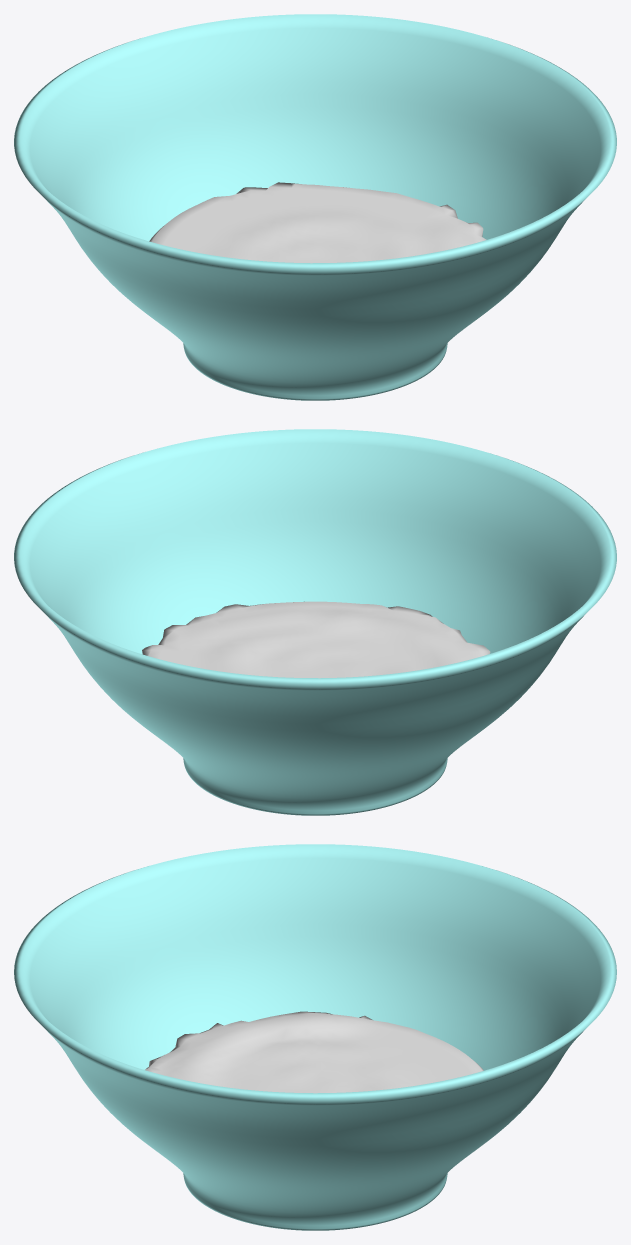
The model's file is waterBowl.fbx.
3 renders of one model, top to bottom at view 1: azimuth 30°, elevation 25°; view 2: azimuth 150°, elevation 25°; view 3: azimuth 270°, elevation 25°, orthographic.
Visible parts, largest first — view 1: Sphere, Volume5; view 2: Sphere, Volume5; view 3: Sphere, Volume5.
Boxes of the visible parts, left/top/right/bottom form: Sphere: left=14, top=14, right=616, bottom=400; Volume5: left=149, top=182, right=486, bottom=263; Sphere: left=14, top=429, right=616, bottom=815; Volume5: left=142, top=601, right=490, bottom=678; Sphere: left=14, top=844, right=616, bottom=1230; Volume5: left=145, top=1011, right=483, bottom=1093.
Bounding box in the file's own units: 217 × 82.13 × 217.
